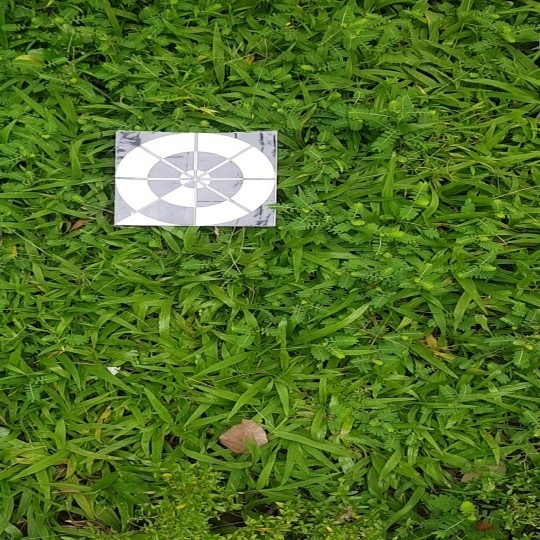landing-zone: (110, 124, 283, 230)
